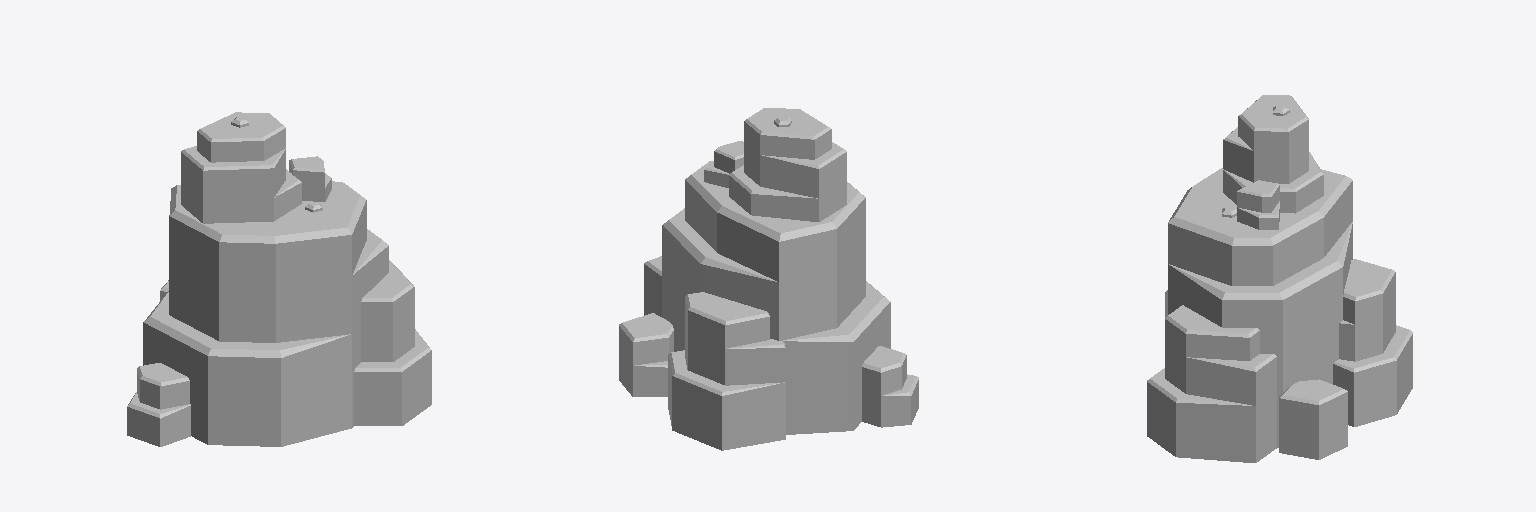
Rendered from Rock_1_K_Color1.obj.
3 views of the same model, side by side, from view 1: azimuth 30°, elevation 25°; view 2: azimuth 150°, elevation 25°; view 3: azimuth 270°, elevation 25° (orthographic).
Parts seen in each view (by area): view 1: Rock_1_K_Color1; view 2: Rock_1_K_Color1; view 3: Rock_1_K_Color1.
Part boxes in pixels (left/top/right/bottom): Rock_1_K_Color1: left=127, top=112, right=431, bottom=446; Rock_1_K_Color1: left=619, top=108, right=918, bottom=450; Rock_1_K_Color1: left=1147, top=95, right=1412, bottom=462.
Size of the model in its own units: 3.69 by 3.65 by 3.13.